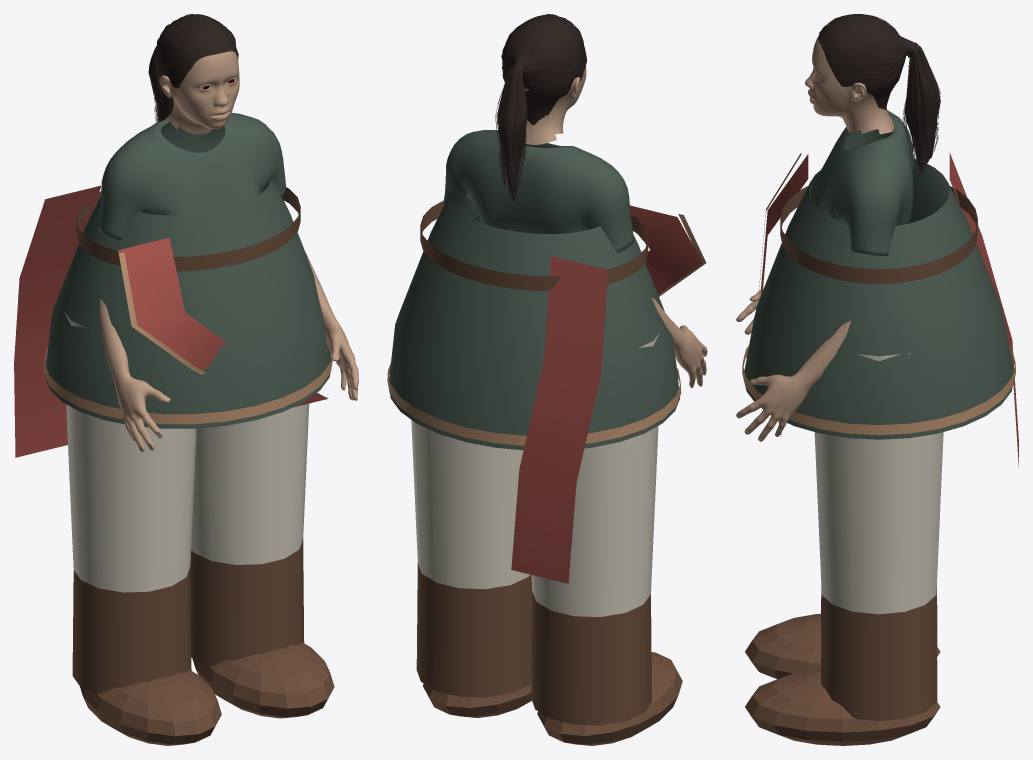
File: leela_static_study.glb
The picture shows the model from 3 angles, left to right: view 1: azimuth 30°, elevation 25°; view 2: azimuth 150°, elevation 25°; view 3: azimuth 270°, elevation 25°; orthographic projection.
Parts seen in each view (by area): view 1: Asymmetric tunic skirt study_preview, right cotton trouser_preview, left cotton trouser_preview, Leela_fitted_upper_study_preview, right leather boot_preview, Red back drape_preview, left leather boot_preview, Leela_independent_MakeHuman_body_preview, right boot toe_preview, left boot toe_preview, Red front drape_preview, Leela_hair_study_preview (+3 smaller); view 2: Asymmetric tunic skirt study_preview, Red back drape_preview, right cotton trouser_preview, left cotton trouser_preview, Leela_fitted_upper_study_preview, right leather boot_preview, left leather boot_preview, Leela_hair_study_preview, right boot toe_preview, Leather waist wrap_preview, Red front drape_preview, Leela_independent_MakeHuman_body_preview (+2 smaller); view 3: Asymmetric tunic skirt study_preview, left cotton trouser_preview, left leather boot_preview, Leela_fitted_upper_study_preview, Leela_hair_study_preview, Leela_independent_MakeHuman_body_preview, left boot toe_preview, Leather waist wrap_preview, right boot toe_preview, Tunic hem trim_preview, Red back drape_preview, Red front drape_preview.
Part boxes in pixels (<box>): Asymmetric tunic skirt study_preview: <box>45,180,331,428</box>; right cotton trouser_preview: <box>61,308,196,592</box>; left cotton trouser_preview: <box>191,403,309,564</box>; Leela_fitted_upper_study_preview: <box>98,113,286,239</box>; right leather boot_preview: <box>72,566,191,693</box>; Red back drape_preview: <box>14,185,101,457</box>; left leather boot_preview: <box>190,539,304,666</box>; Leela_independent_MakeHuman_body_preview: <box>99,49,358,451</box>; right boot toe_preview: <box>80,669,221,745</box>; left boot toe_preview: <box>192,642,334,718</box>; Red front drape_preview: <box>118,237,328,407</box>; Leela_hair_study_preview: <box>148,14,238,134</box>; Asymmetric tunic skirt study_preview: <box>389,191,679,450</box>; Red back drape_preview: <box>511,256,608,583</box>; right cotton trouser_preview: <box>531,328,662,616</box>; left cotton trouser_preview: <box>405,295,529,589</box>; Leela_fitted_upper_study_preview: <box>443,130,634,253</box>; right leather boot_preview: <box>531,591,651,725</box>; left leather boot_preview: <box>416,563,532,697</box>; Leela_hair_study_preview: <box>495,14,586,202</box>; right boot toe_preview: <box>537,652,682,745</box>; Leather waist wrap_preview: <box>420,200,648,290</box>; Red front drape_preview: <box>630,205,702,294</box>; Leela_independent_MakeHuman_body_preview: <box>524,66,707,387</box>; Asymmetric tunic skirt study_preview: <box>743,159,1013,439</box>; left cotton trouser_preview: <box>814,353,943,614</box>; left leather boot_preview: <box>821,594,937,721</box>; Leela_fitted_upper_study_preview: <box>810,110,914,255</box>; Leela_hair_study_preview: <box>818,14,940,174</box>; Leela_independent_MakeHuman_body_preview: <box>736,35,893,441</box>; left boot toe_preview: <box>745,669,940,745</box>; Leather waist wrap_preview: <box>780,186,977,284</box>; right boot toe_preview: <box>745,613,940,679</box>; Tunic hem trim_preview: <box>742,345,1015,435</box>; Red back drape_preview: <box>949,152,1018,466</box>; Red front drape_preview: <box>760,154,808,436</box>.
Size of the model in its own units: 0.544 by 1.41 by 0.52.
Materials: 8 (1 with a texture image).
